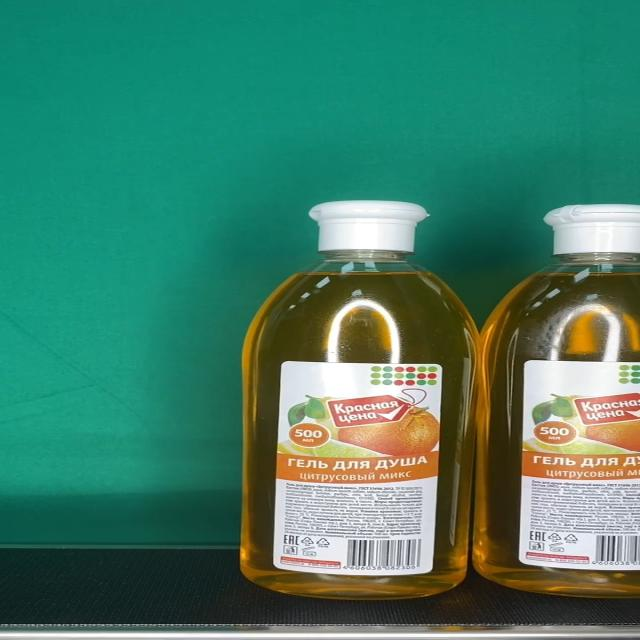Bottle: (244, 200, 480, 598)
Cap: (310, 201, 430, 252)
